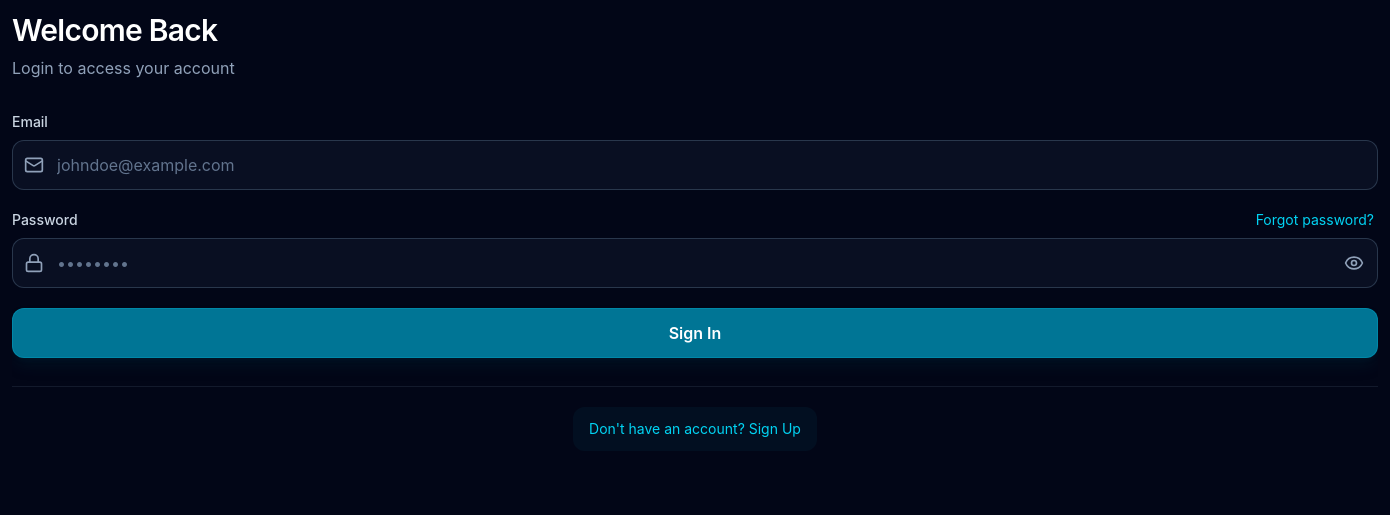
Test: LoginForm › clears error when user starts typing
The image size is (1390, 515).
# Trigger validation error
Step 1. Click the button "Sign In" → (695, 333), box [12,308,1378,358]
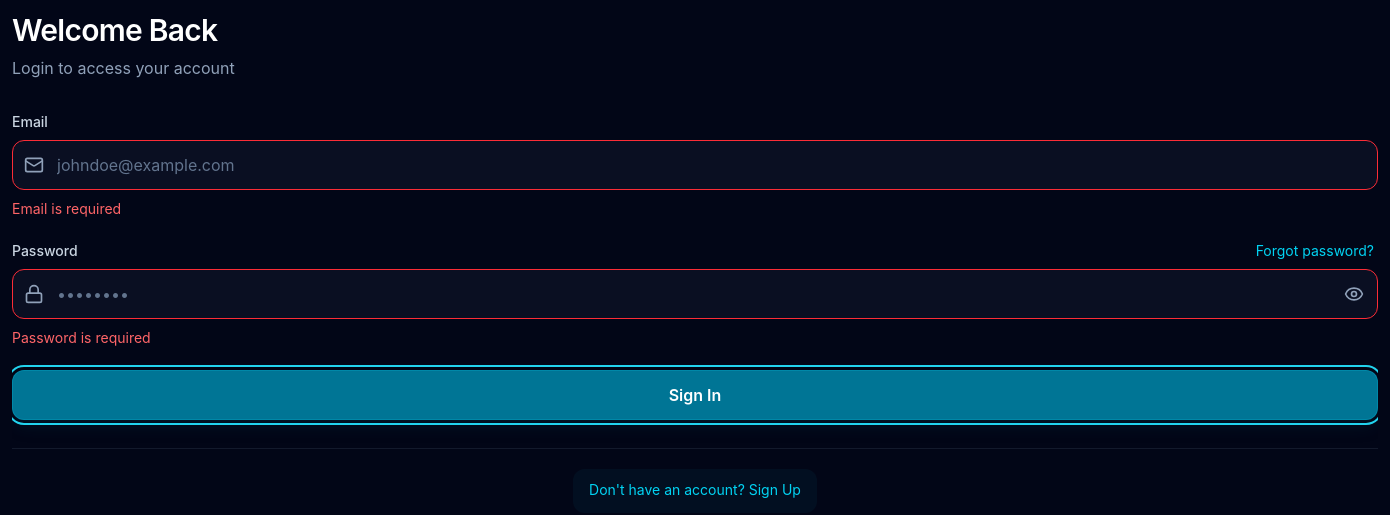
Expected: the text "Email is required" is shown, [12,200,121,217]
# Start typing should clear error
Step 2. Type "t" into the field with placeholder "johndoe@example.com" → (695, 165), box [12,140,1378,190]
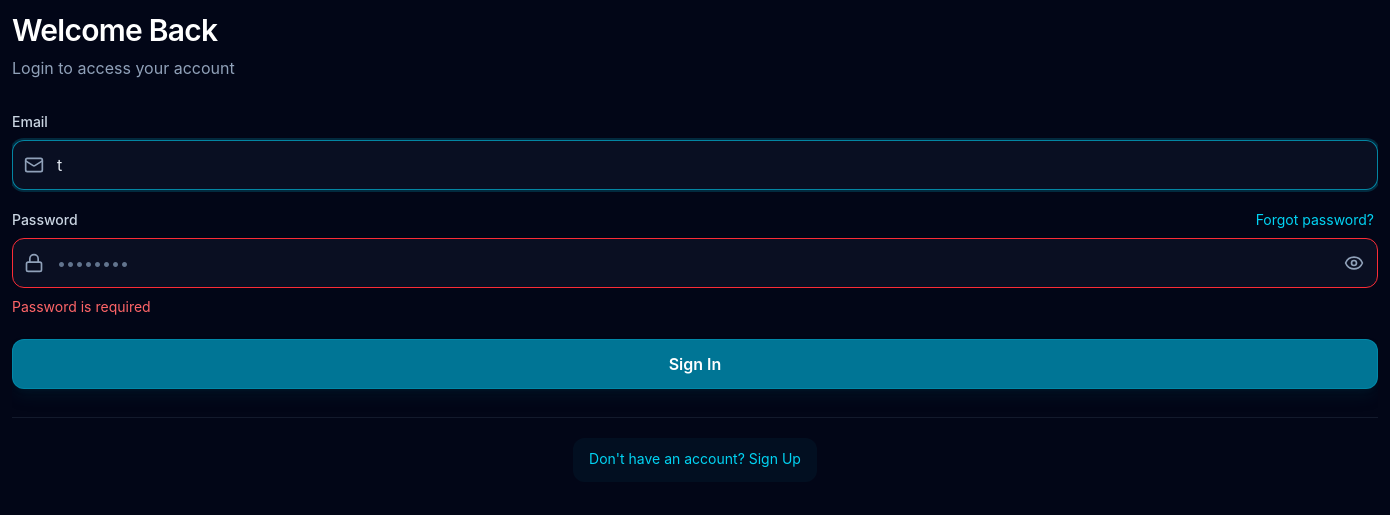
Expected: the text "Email is required" is gone
